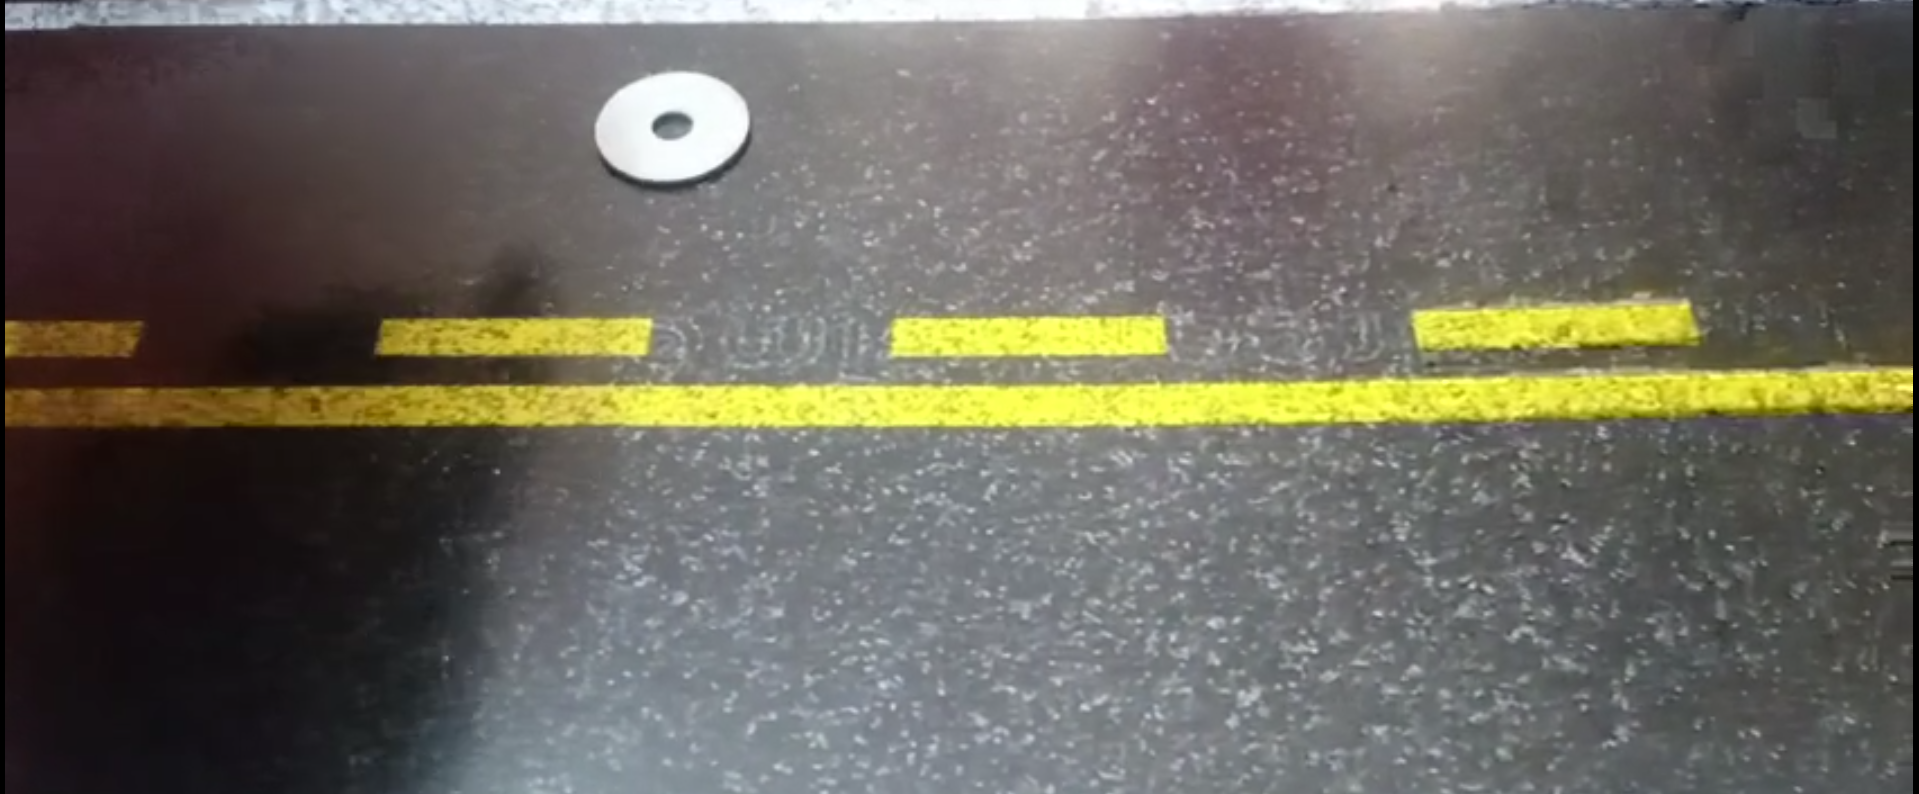metal: (587, 54, 769, 196)
